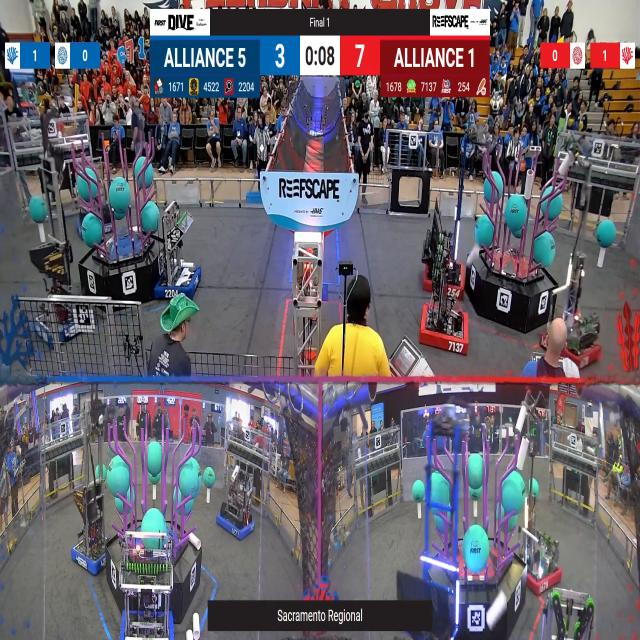scoreboard: (151, 35, 490, 97)
